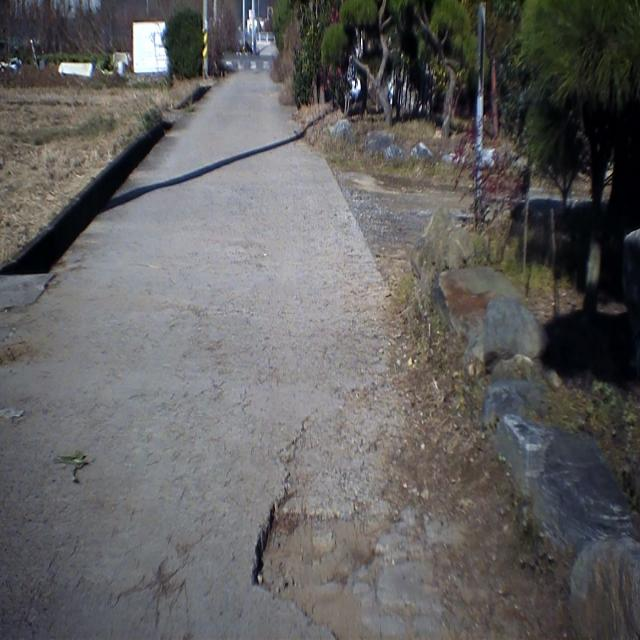Pothole: (246, 499, 388, 640)
